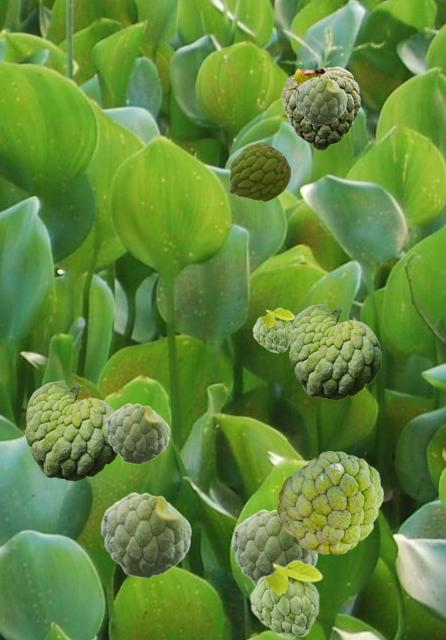atis: (277, 451, 382, 553), (25, 380, 117, 480), (289, 303, 380, 399), (100, 492, 191, 577), (231, 509, 318, 586), (281, 66, 359, 149), (249, 559, 322, 638), (105, 403, 169, 463), (229, 142, 289, 200), (295, 77, 346, 124), (252, 307, 294, 352)
